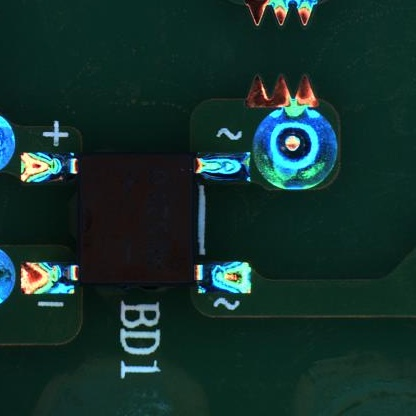spot: (253, 106, 337, 189), (1, 112, 17, 172), (1, 246, 16, 308)
